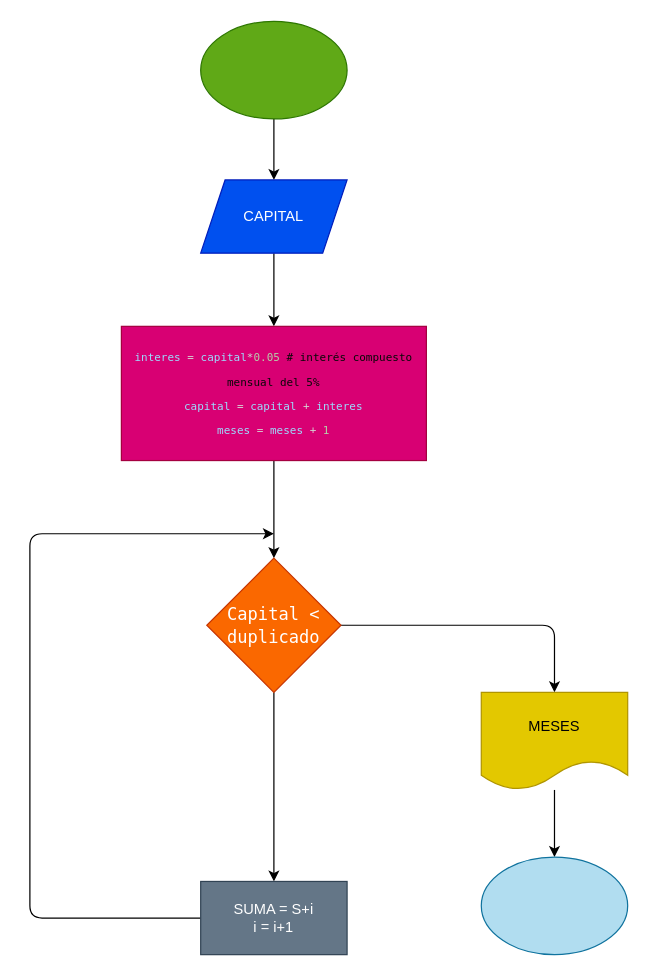
The diagram is 649 pixels wide and 976 high, and some of its shapes have lost their labels. Each missing label, with the centre of its shape:
"FIN" goes at pixel 554 905.
"INICIO" goes at pixel 273 69.
